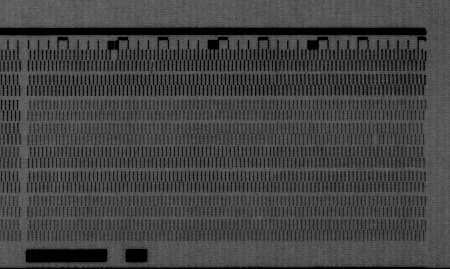Broken hole: (108, 48, 121, 60), (370, 133, 381, 147)
Oblique printing: (147, 61, 158, 75)
